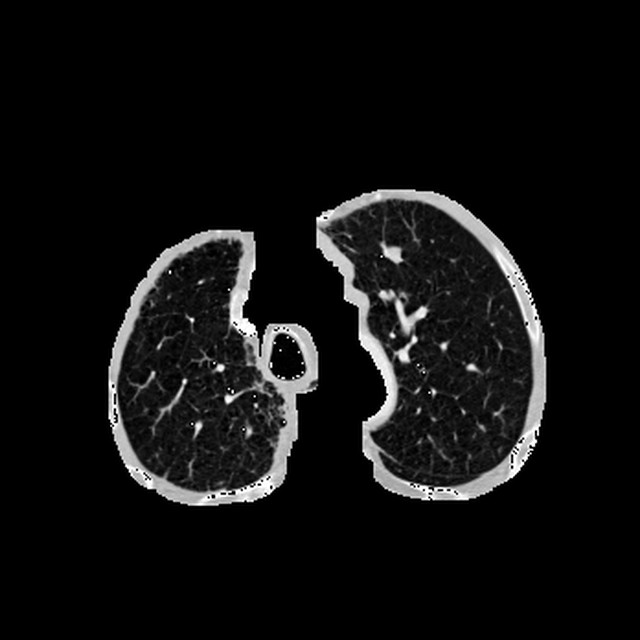PN: (386, 246, 401, 261)
